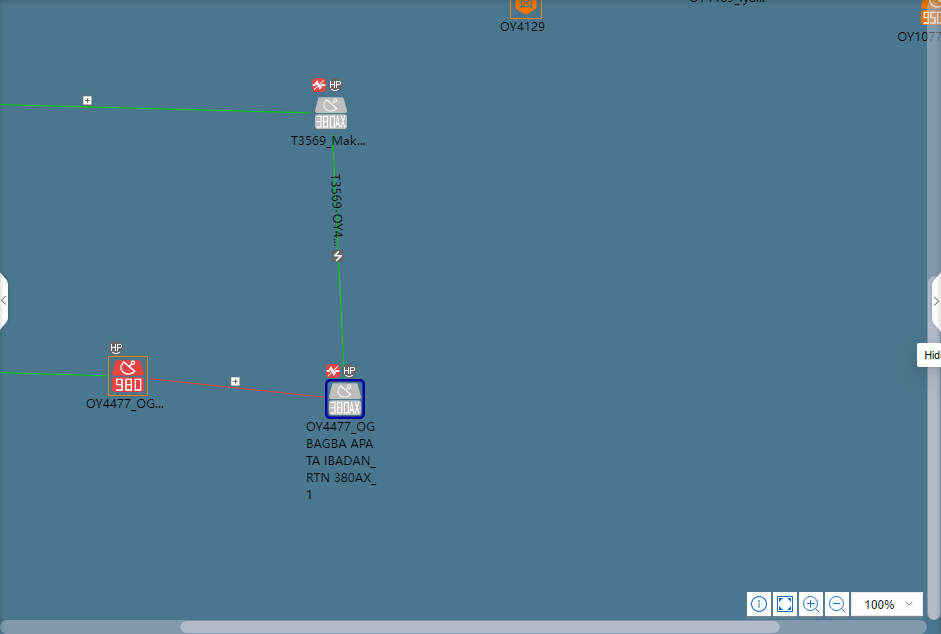Link_Green: (0, 103, 314, 116), (330, 136, 346, 377), (0, 371, 107, 378)
Link_Red: (151, 377, 325, 400)
RTN_Gray: (325, 382, 363, 419), (315, 97, 346, 129)
RTN_Red: (108, 358, 147, 396)
